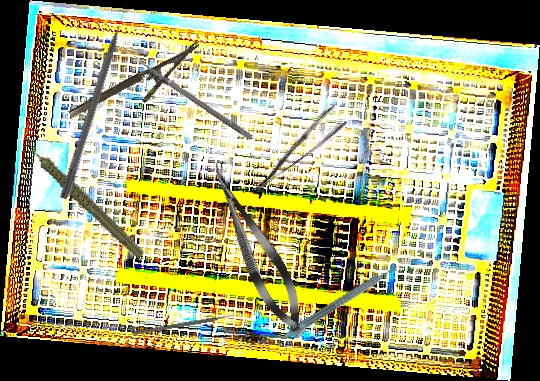Dressing Forceps: (242, 103, 349, 194)
Handpiece: (22, 116, 147, 278), (281, 263, 401, 346)
Micro Scissor: (199, 155, 313, 339)
Needle Holder: (67, 40, 211, 137)
Pusher: (59, 2, 133, 201), (132, 312, 241, 336)
Surgical Spoon: (131, 54, 254, 141)
